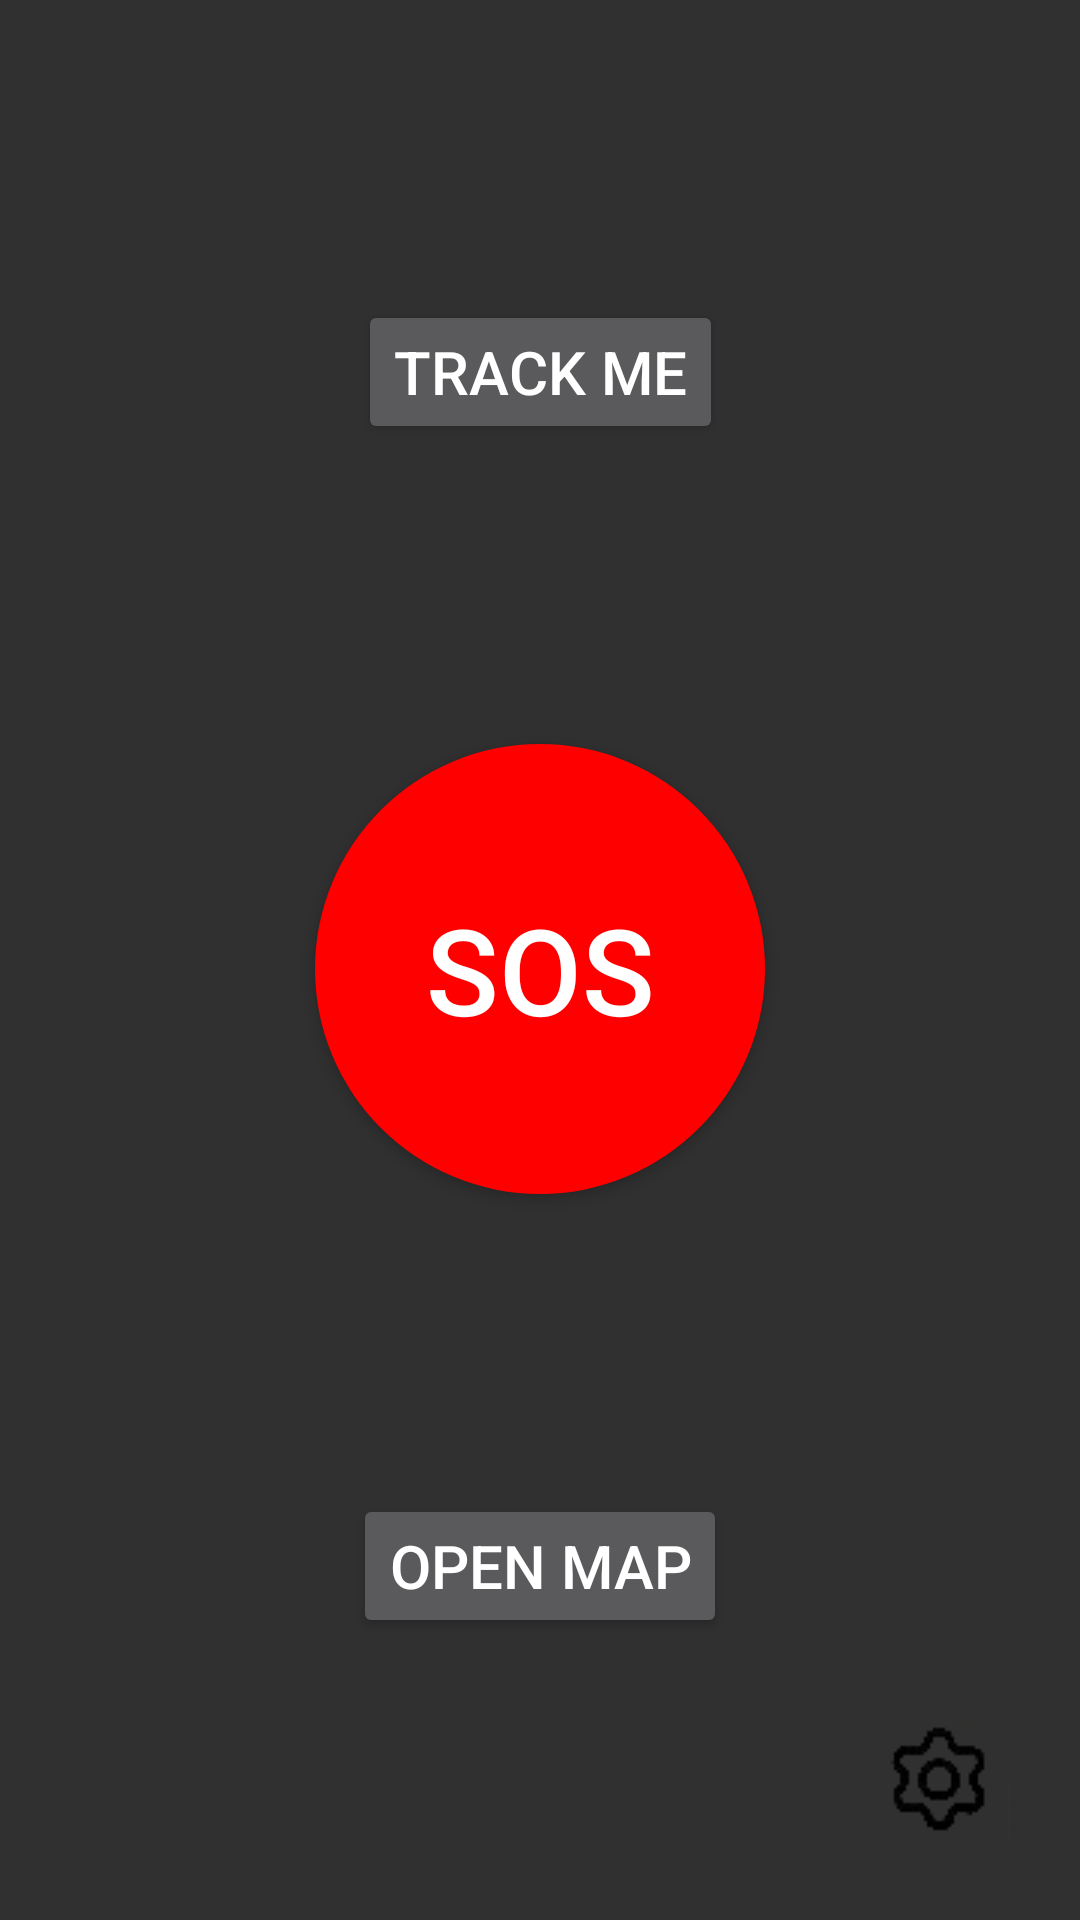

Icon click points for this 1080w x 1920h phone screenshot, format (x=x, y=y):
settings: (x=938, y=1779)
